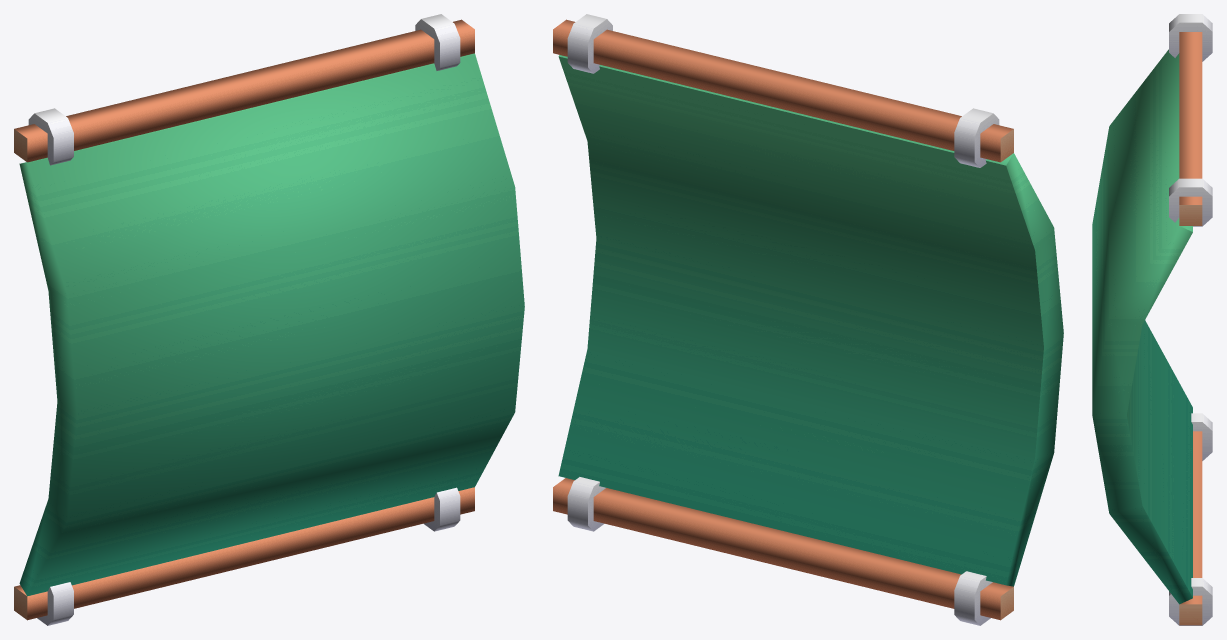
The model's file is sail_green.glb.
The picture shows the model from 3 angles, left to right: view 1: azimuth 30°, elevation 25°; view 2: azimuth 150°, elevation 25°; view 3: azimuth 270°, elevation 25°; orthographic projection. The views are drawn at different scales.
Visible parts, largest first — view 1: sail-a_green; view 2: sail-a_green; view 3: sail-a_green.
Boxes of the visible parts, x1=… form: sail-a_green: x1=14, y1=14, x2=524, y2=625; sail-a_green: x1=553, y1=14, x2=1063, y2=625; sail-a_green: x1=1092, y1=14, x2=1212, y2=625.
Size of the model in its own units: 4.4 by 4.72 by 1.18.
1 material, 1 textured.
